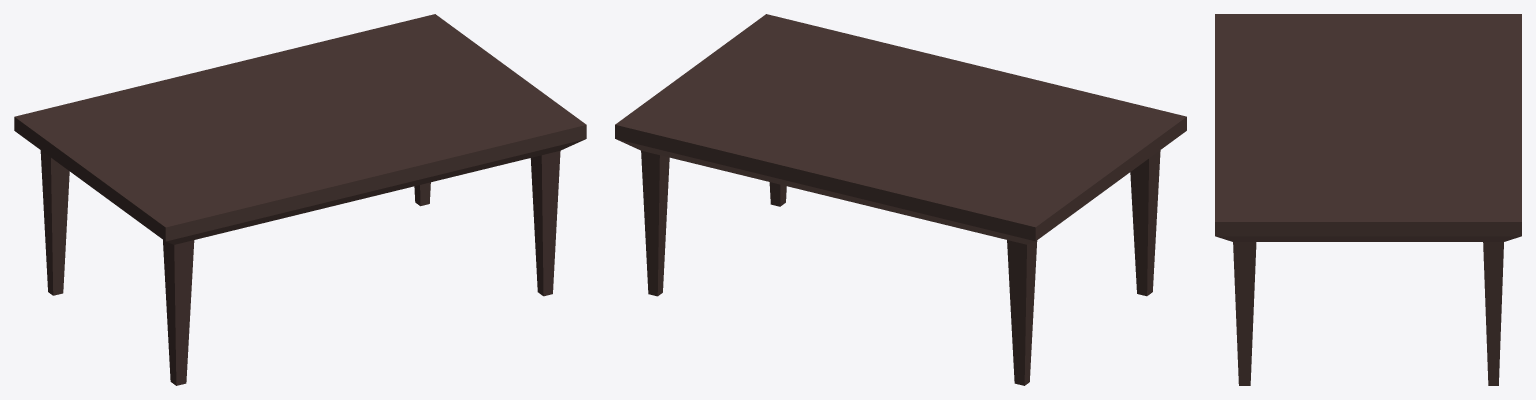
File: SM_LargeTable.fbx
3 renders of one model, left to right at view 1: azimuth 30°, elevation 25°; view 2: azimuth 150°, elevation 25°; view 3: azimuth 270°, elevation 25°, orthographic.
Parts seen in each view (by area): view 1: SM_LargeTable; view 2: SM_LargeTable; view 3: SM_LargeTable.
Boxes of the visible parts, x1,y1,x2,y2 form: SM_LargeTable: (14,14,586,385); SM_LargeTable: (615,14,1186,385); SM_LargeTable: (1215,14,1521,385).
Size of the model in its own units: 182 by 71.08 by 113.
